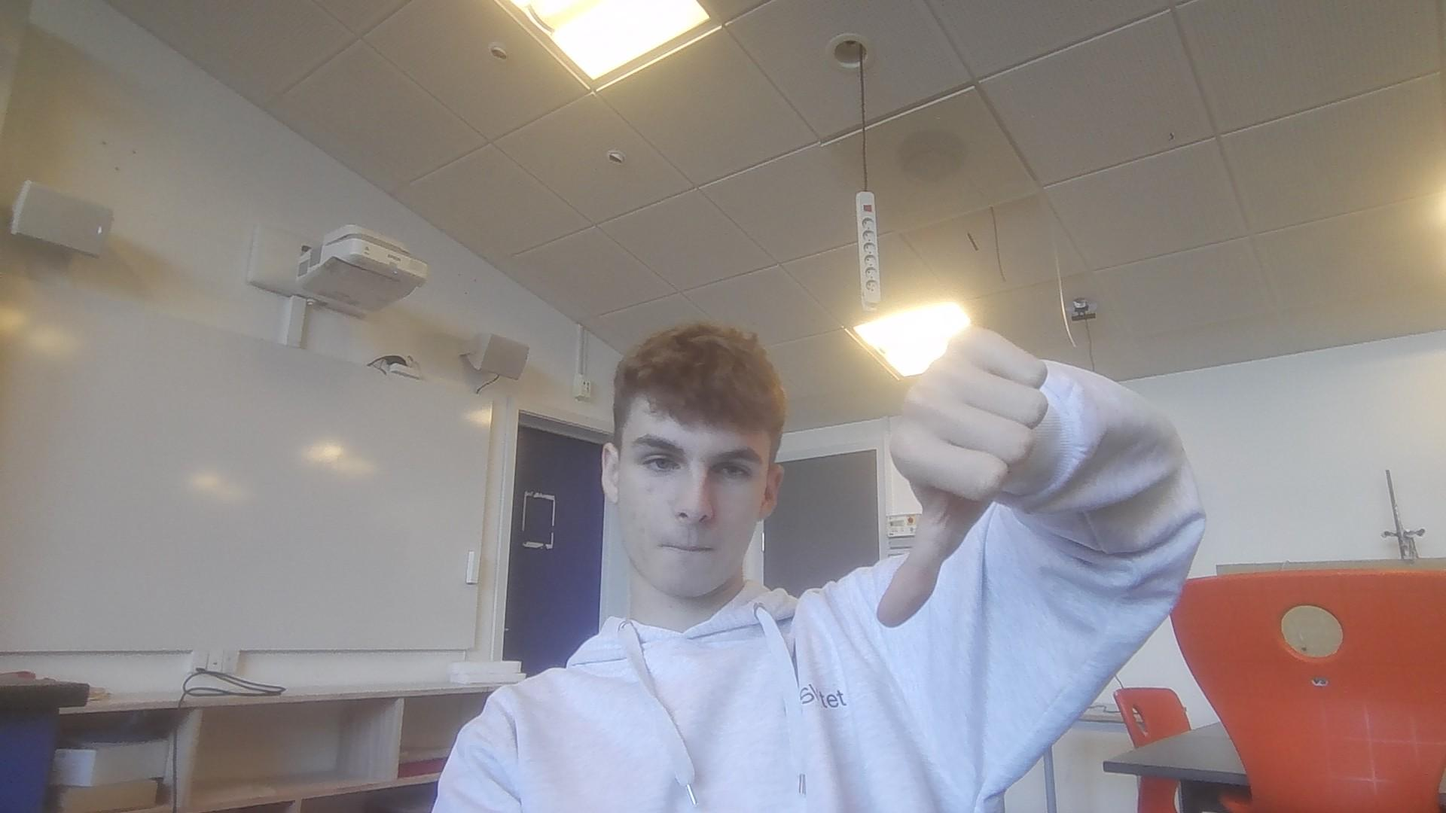thumbs down: (881, 326, 1049, 628)
